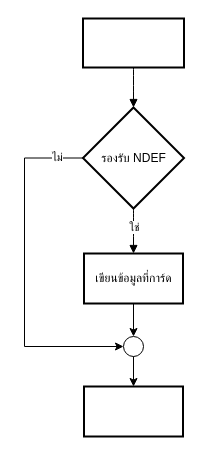
Some shapes in this 202 by 454 pixel diagram are drawn without their labels. The shapes that lost their labels are listed below. From the top down, each one's centre as x and y in pixels, then its label:
(133,42): เริ่มต้น
(133,411): สิ้นสุด
